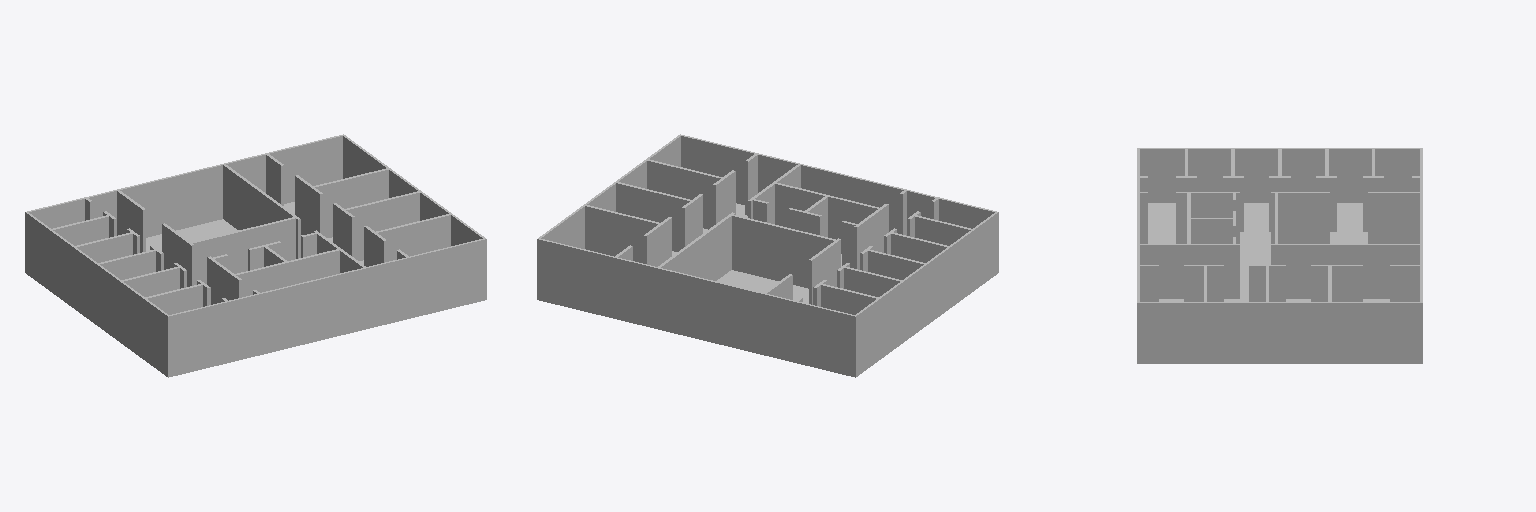
The model's file is Keba_1_Floor(1).obj.
3 views of the same model, side by side, from view 1: azimuth 30°, elevation 25°; view 2: azimuth 150°, elevation 25°; view 3: azimuth 270°, elevation 25° (orthographic).
Parts seen in each view (by area): view 1: Cube; view 2: Cube; view 3: Cube.
Boxes of the visible parts, x1=… form: Cube: x1=25, y1=134, x2=486, y2=377; Cube: x1=537, y1=134, x2=998, y2=377; Cube: x1=1137, y1=148, x2=1422, y2=363.
Size of the model in its own units: 20.94 by 3.83 by 16.29.